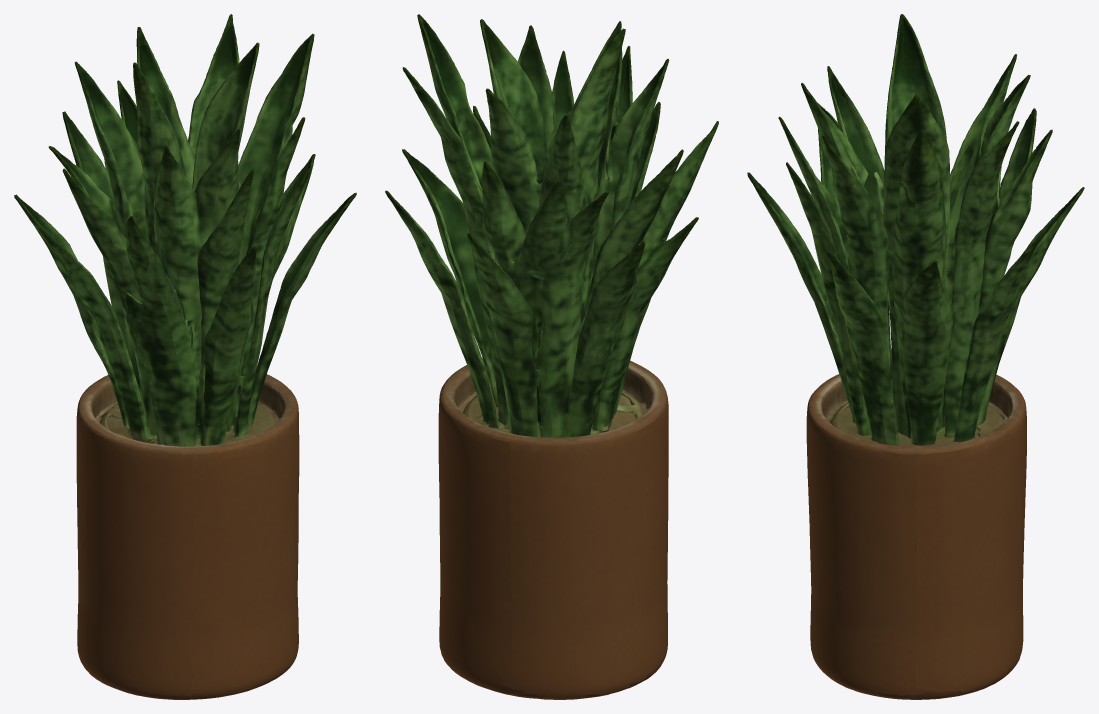
The model's file is item_36a53dfe.glb.
3 views of the same model, side by side, from view 1: azimuth 30°, elevation 25°; view 2: azimuth 150°, elevation 25°; view 3: azimuth 270°, elevation 25° (orthographic). The views are drawn at different scales.
Parts seen in each view (by area): view 1: world; view 2: world; view 3: world.
Part boxes in pixels (x1,y1,x2,y2): world: [14, 14, 356, 699]; world: [385, 14, 718, 699]; world: [747, 14, 1084, 699].
Size of the model in its own units: 0.311 by 0.65 by 0.324.
1 material, 1 textured.
